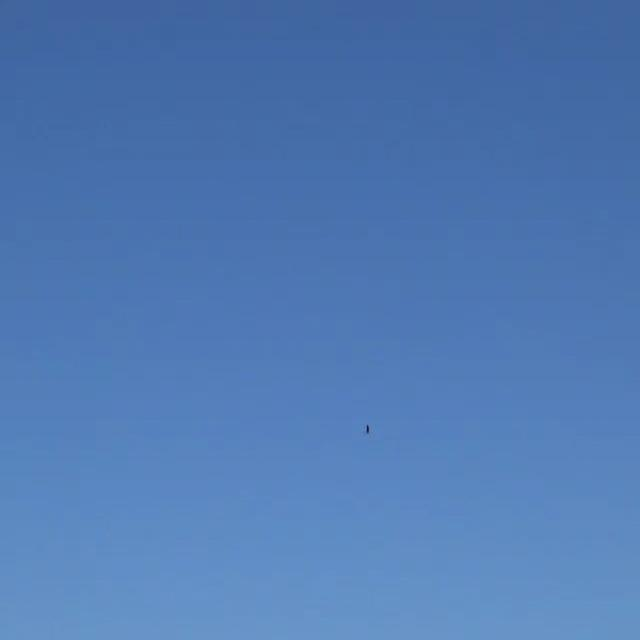bird: (364, 422, 373, 442)
